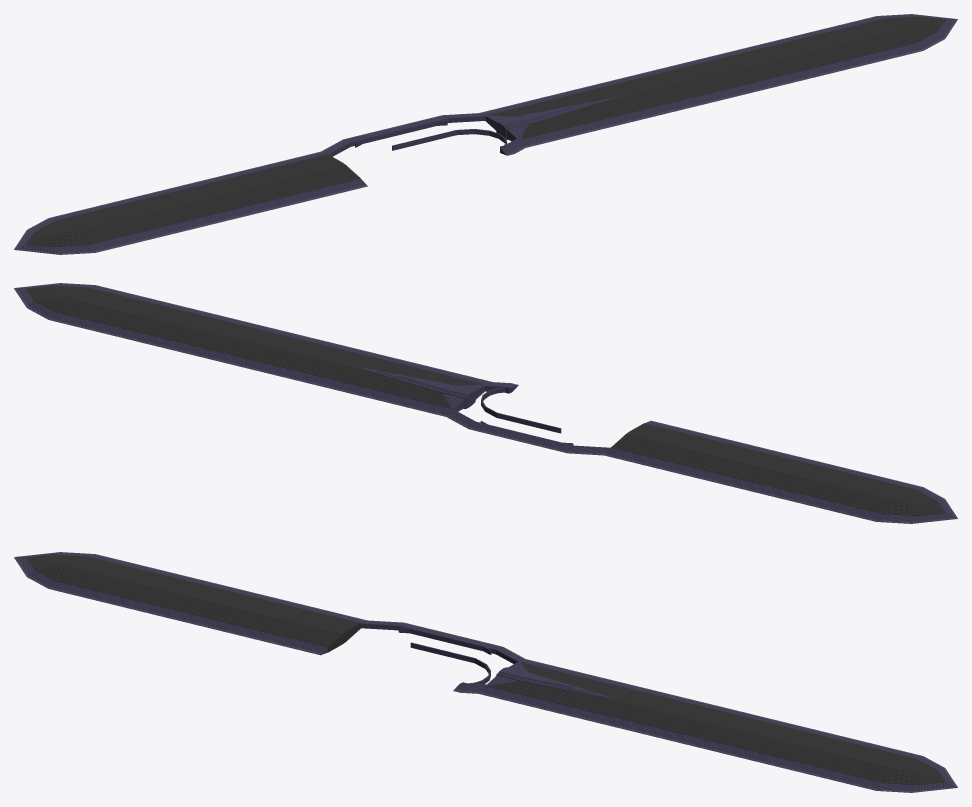
The model's file is mht.gltf.
3 views of the same model, one above another, from view 1: azimuth 30°, elevation 25°; view 2: azimuth 150°, elevation 25°; view 3: azimuth 330°, elevation 25° (orthographic).
Visible parts, largest first — view 1: cube; view 2: cube; view 3: cube.
Part boxes in pixels (left/top/right/bottom): cube: left=14, top=14, right=957, bottom=254; cube: left=14, top=283, right=957, bottom=523; cube: left=14, top=552, right=957, bottom=792.
Bounding box in the file's own units: 2.38 × 0.0312 × 0.25.
3 materials, 3 textured.
